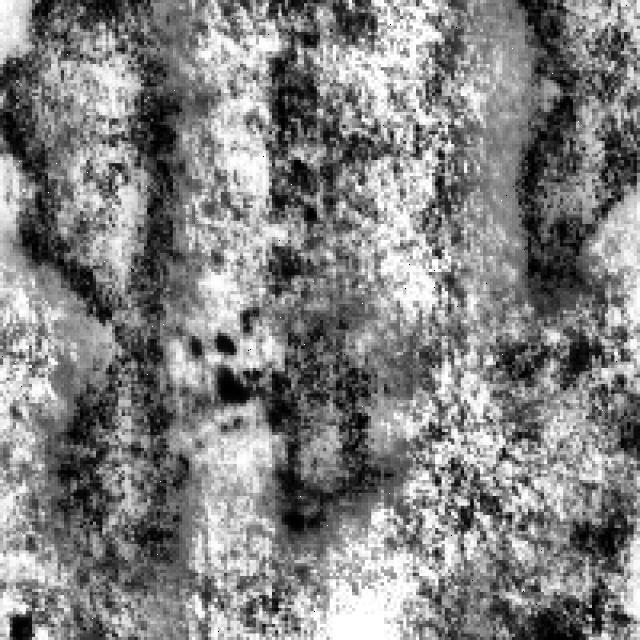Patches: (192, 314, 250, 401)
Scratches: (3, 0, 195, 573), (509, 0, 640, 310), (272, 307, 403, 528)
